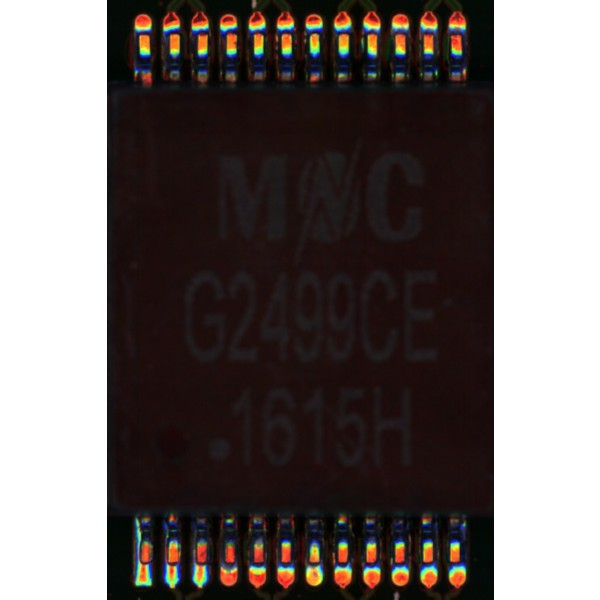Bad_podu: (198, 554, 204, 576), (170, 556, 176, 576), (141, 554, 147, 574)
Bad_qiaojiao: (134, 516, 140, 563), (164, 523, 169, 565)
